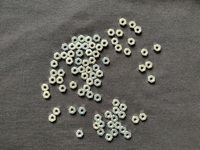nut: (53, 108, 61, 116), (41, 84, 49, 92), (50, 70, 58, 78), (56, 77, 64, 85), (59, 85, 67, 93), (78, 89, 86, 97), (94, 79, 102, 87), (89, 57, 97, 65), (93, 122, 101, 130), (97, 129, 105, 137), (105, 134, 113, 142), (111, 129, 119, 137), (124, 132, 132, 140), (140, 113, 148, 121), (115, 44, 123, 52), (129, 21, 137, 29), (154, 44, 162, 52), (148, 76, 156, 84), (49, 115, 56, 123), (43, 92, 51, 99), (51, 60, 58, 68), (54, 53, 61, 61), (69, 107, 76, 115), (70, 82, 77, 90), (76, 131, 84, 138), (78, 108, 86, 115), (61, 52, 68, 60), (66, 58, 74, 65), (69, 43, 76, 51), (72, 67, 79, 75), (76, 42, 83, 50), (76, 50, 84, 57), (79, 35, 86, 43), (83, 85, 91, 92), (86, 92, 94, 99), (95, 94, 102, 102), (79, 66, 86, 74), (81, 73, 89, 80), (87, 78, 94, 86), (82, 60, 90, 67), (90, 72, 97, 80), (86, 49, 93, 57), (89, 42, 96, 50), (97, 70, 104, 78), (93, 35, 101, 42), (101, 40, 109, 47), (95, 115, 102, 123), (105, 111, 112, 119), (108, 121, 115, 129), (115, 122, 122, 130), (111, 115, 118, 123), (113, 107, 120, 115), (120, 127, 127, 135), (132, 117, 140, 124), (111, 38, 119, 45), (116, 30, 124, 37), (120, 18, 127, 26), (124, 49, 132, 56), (128, 38, 135, 46), (135, 26, 142, 34), (141, 49, 149, 56), (49, 77, 56, 84), (58, 70, 65, 77), (62, 44, 69, 51), (68, 51, 75, 58), (72, 37, 79, 44), (86, 67, 93, 74), (82, 43, 89, 50), (93, 51, 100, 58), (93, 65, 100, 72), (103, 58, 110, 65), (96, 44, 103, 51), (113, 100, 120, 107), (119, 112, 126, 119), (108, 29, 115, 36), (139, 65, 146, 72), (146, 62, 153, 69), (76, 58, 82, 66), (86, 36, 92, 44), (99, 121, 105, 129)
